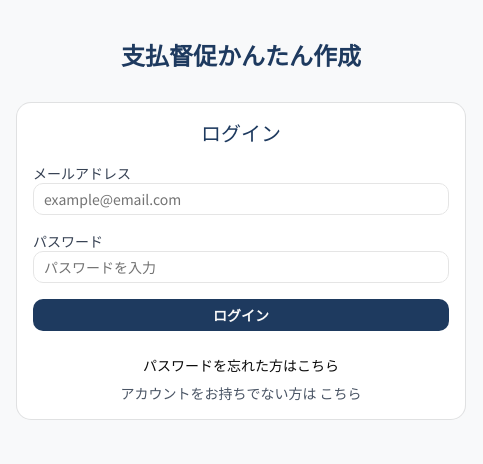
Scenario: LoginPage › メールアドレスの形式が不正の場合エラーメッセージが表示される
Type "test" into the field labelled "メールアドレス". click: (241, 199)
box: [33,183,449,215]
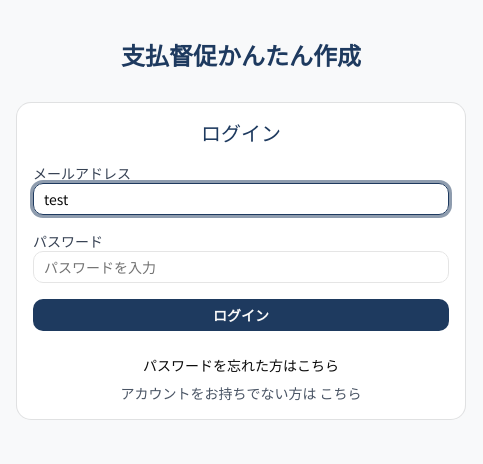
Type "Password1" into the password field labelled "パスワード". click: (241, 267)
box: [33,251,449,283]
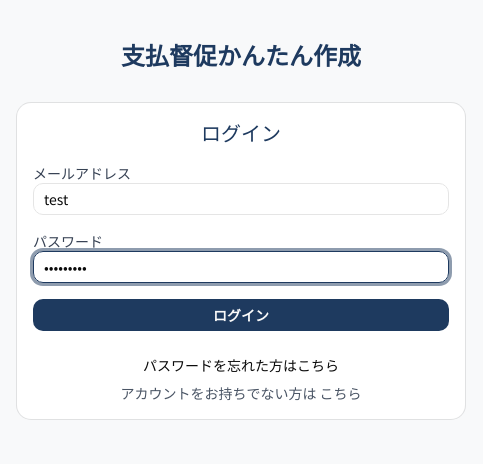
Submit the form "ログイン", box [33,163,449,331]
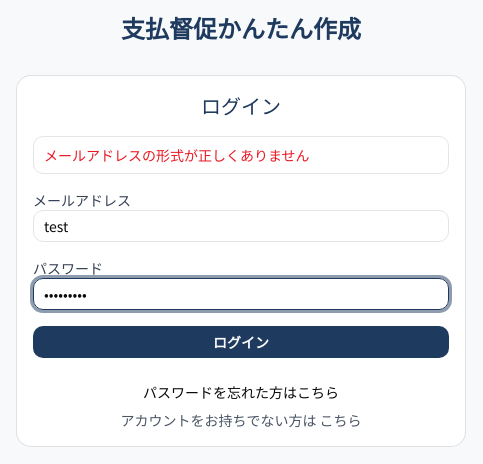
Check: the message "メールアドレスの形式が正しくありません" is shown, box [33,136,449,174]
